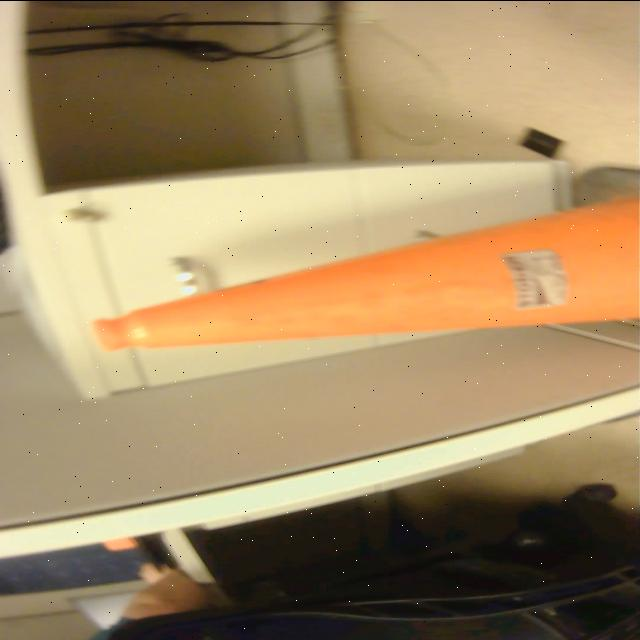traffic cone: (87, 157, 640, 359)
